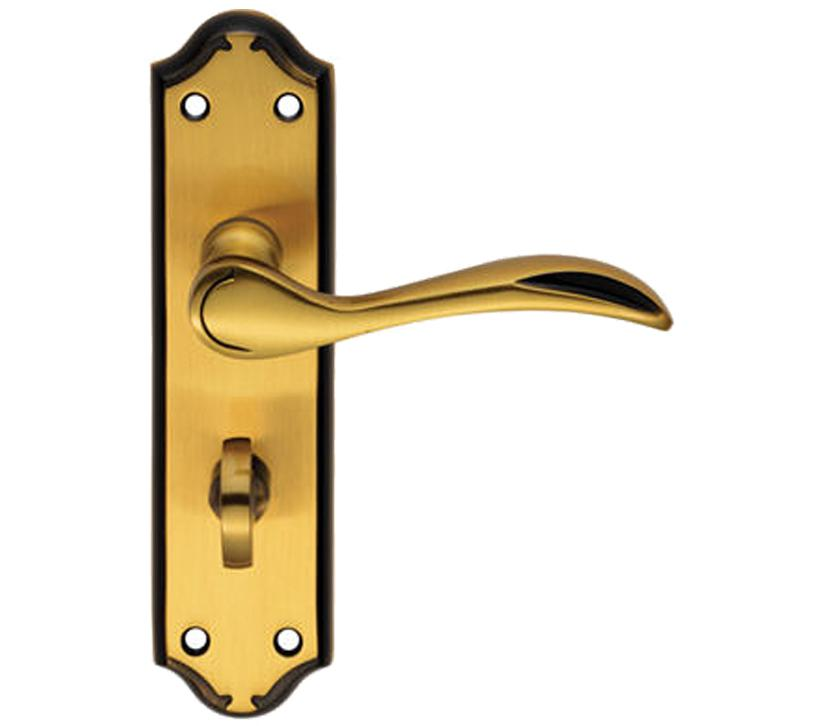doorhandle: (122, 190, 717, 405)
